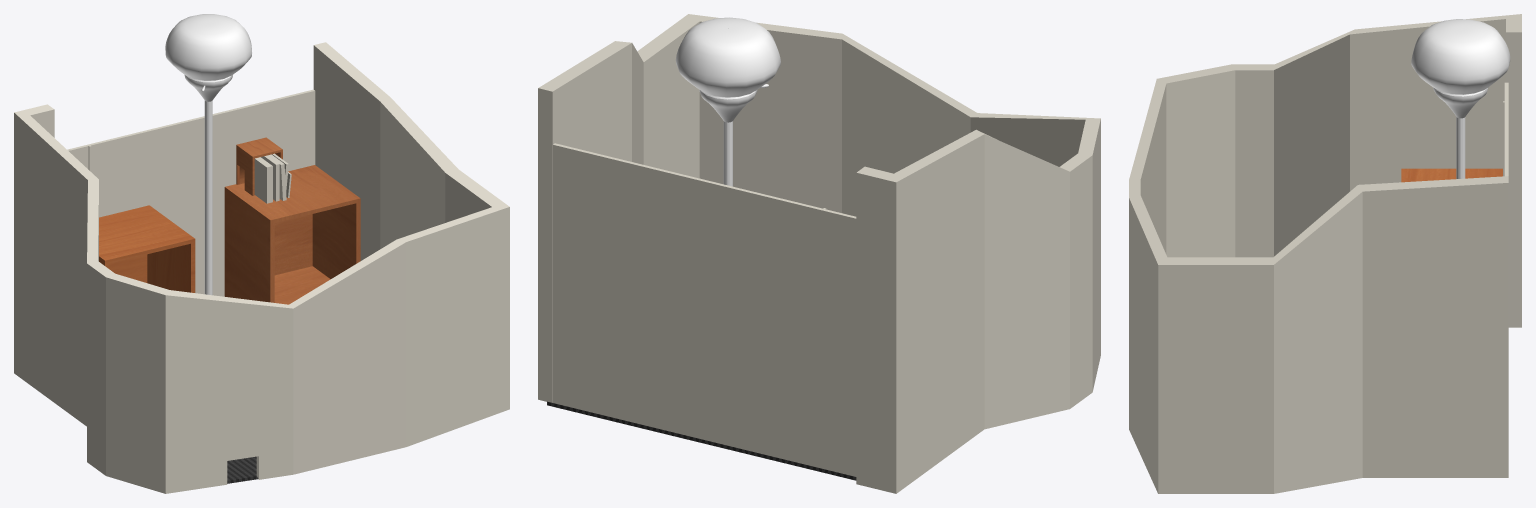
Rendered from lvlP2.FBX.
3 views of the same model, side by side, from view 1: azimuth 30°, elevation 25°; view 2: azimuth 150°, elevation 25°; view 3: azimuth 270°, elevation 25° (orthographic). The views are drawn at different scales.
Visible parts, largest first — view 1: Rectangle009, Box295, Box305, Box319, Line025, Cylinder047, Box588, Box313, Box310, Line027; view 2: Rectangle009, Box295, Line025, Box310, Line027, Cylinder047; view 3: Rectangle009, Line025, Box319, Line027, Cylinder047, Box295.
Part boxes in pixels (bbox=[...]): Rectangle009: bbox=[14, 42, 509, 493]; Box295: bbox=[67, 89, 315, 296]; Box305: bbox=[224, 165, 360, 304]; Box319: bbox=[99, 205, 195, 292]; Line025: bbox=[165, 14, 251, 80]; Cylinder047: bbox=[204, 100, 212, 295]; Box588: bbox=[236, 137, 282, 195]; Box313: bbox=[254, 157, 272, 203]; Box310: bbox=[227, 456, 258, 483]; Line027: bbox=[184, 75, 232, 101]; Rectangle009: bbox=[538, 14, 1100, 493]; Box295: bbox=[553, 143, 856, 476]; Line025: bbox=[675, 17, 780, 97]; Box310: bbox=[547, 401, 856, 480]; Line027: bbox=[699, 89, 757, 122]; Cylinder047: bbox=[723, 121, 732, 186]; Rectangle009: bbox=[1129, 14, 1521, 493]; Line025: bbox=[1411, 19, 1510, 94]; Box319: bbox=[1401, 168, 1502, 182]; Line027: bbox=[1433, 87, 1488, 118]; Cylinder047: bbox=[1456, 117, 1465, 178]; Box295: bbox=[1504, 82, 1508, 176].
Bounding box in the file's own units: 7294 × 6234 × 5909.
